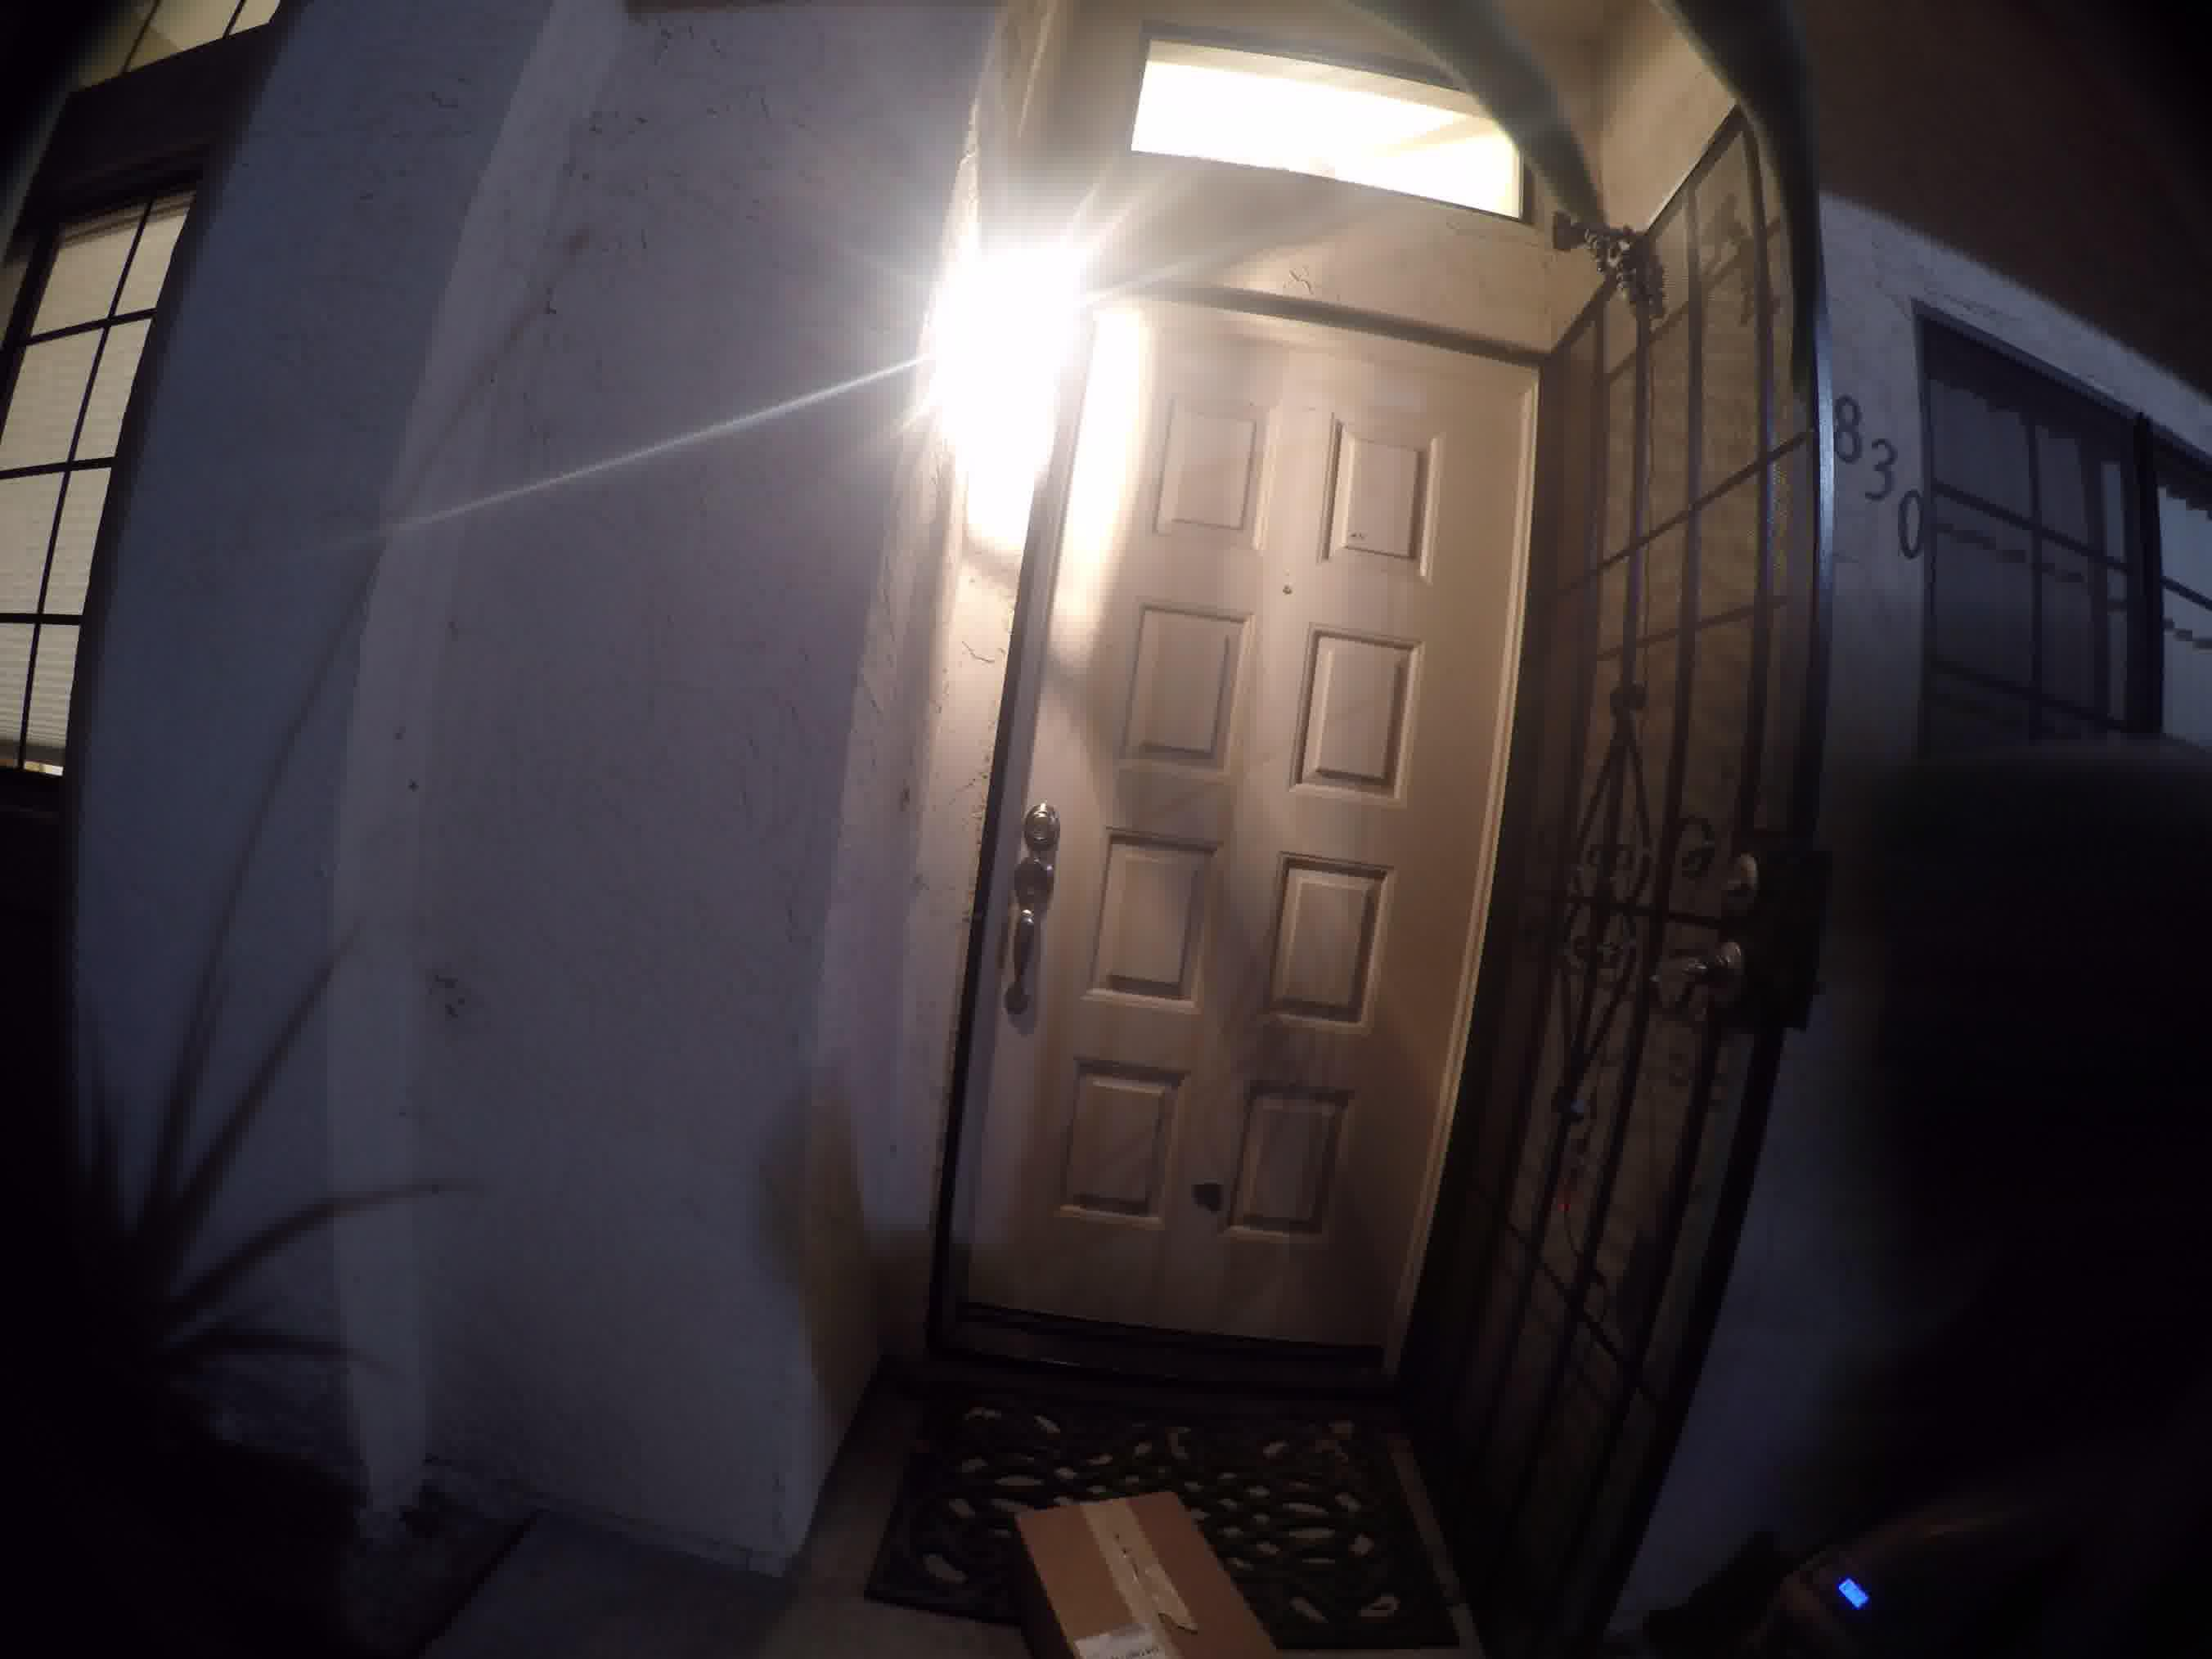box: (998, 1490, 1256, 1645)
